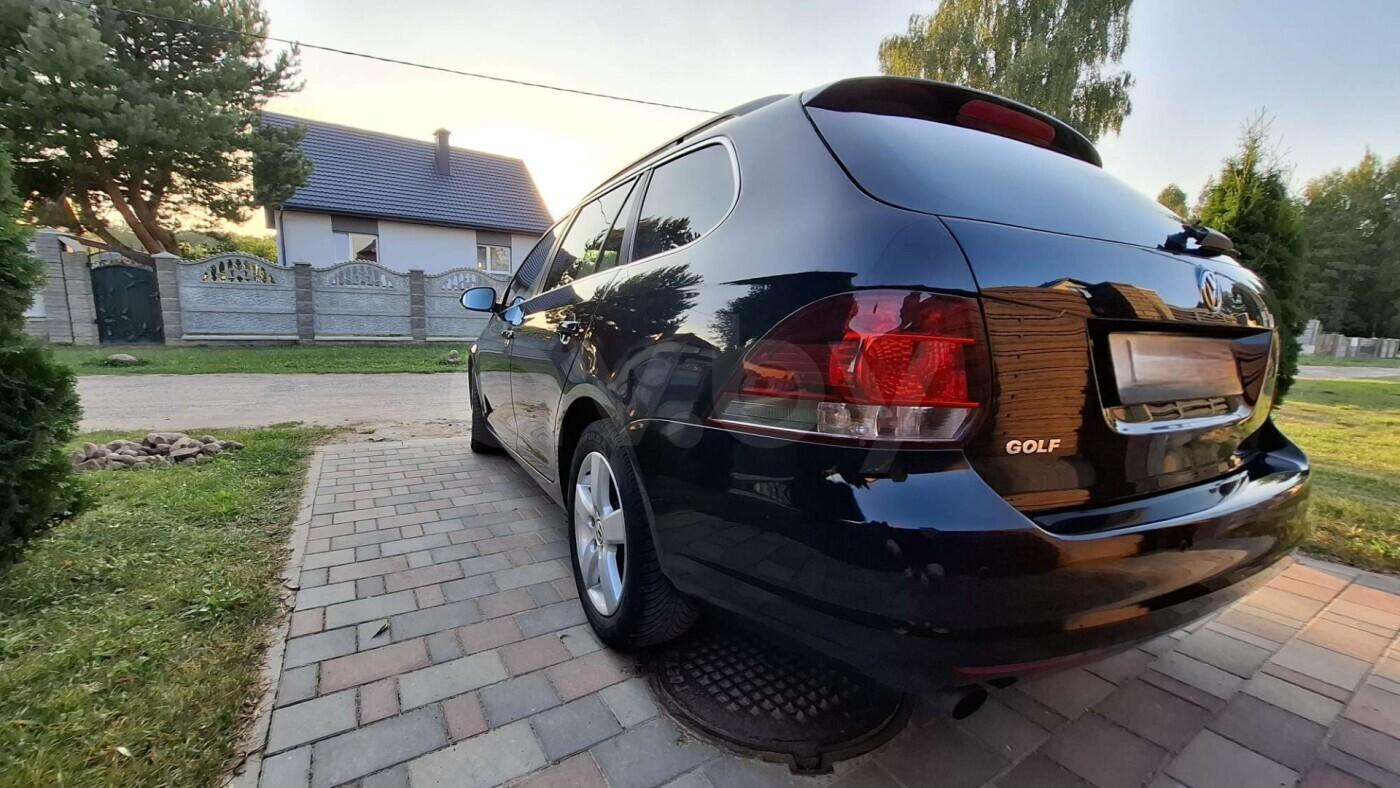Golf_2008-2013: (459, 70, 1316, 717)
